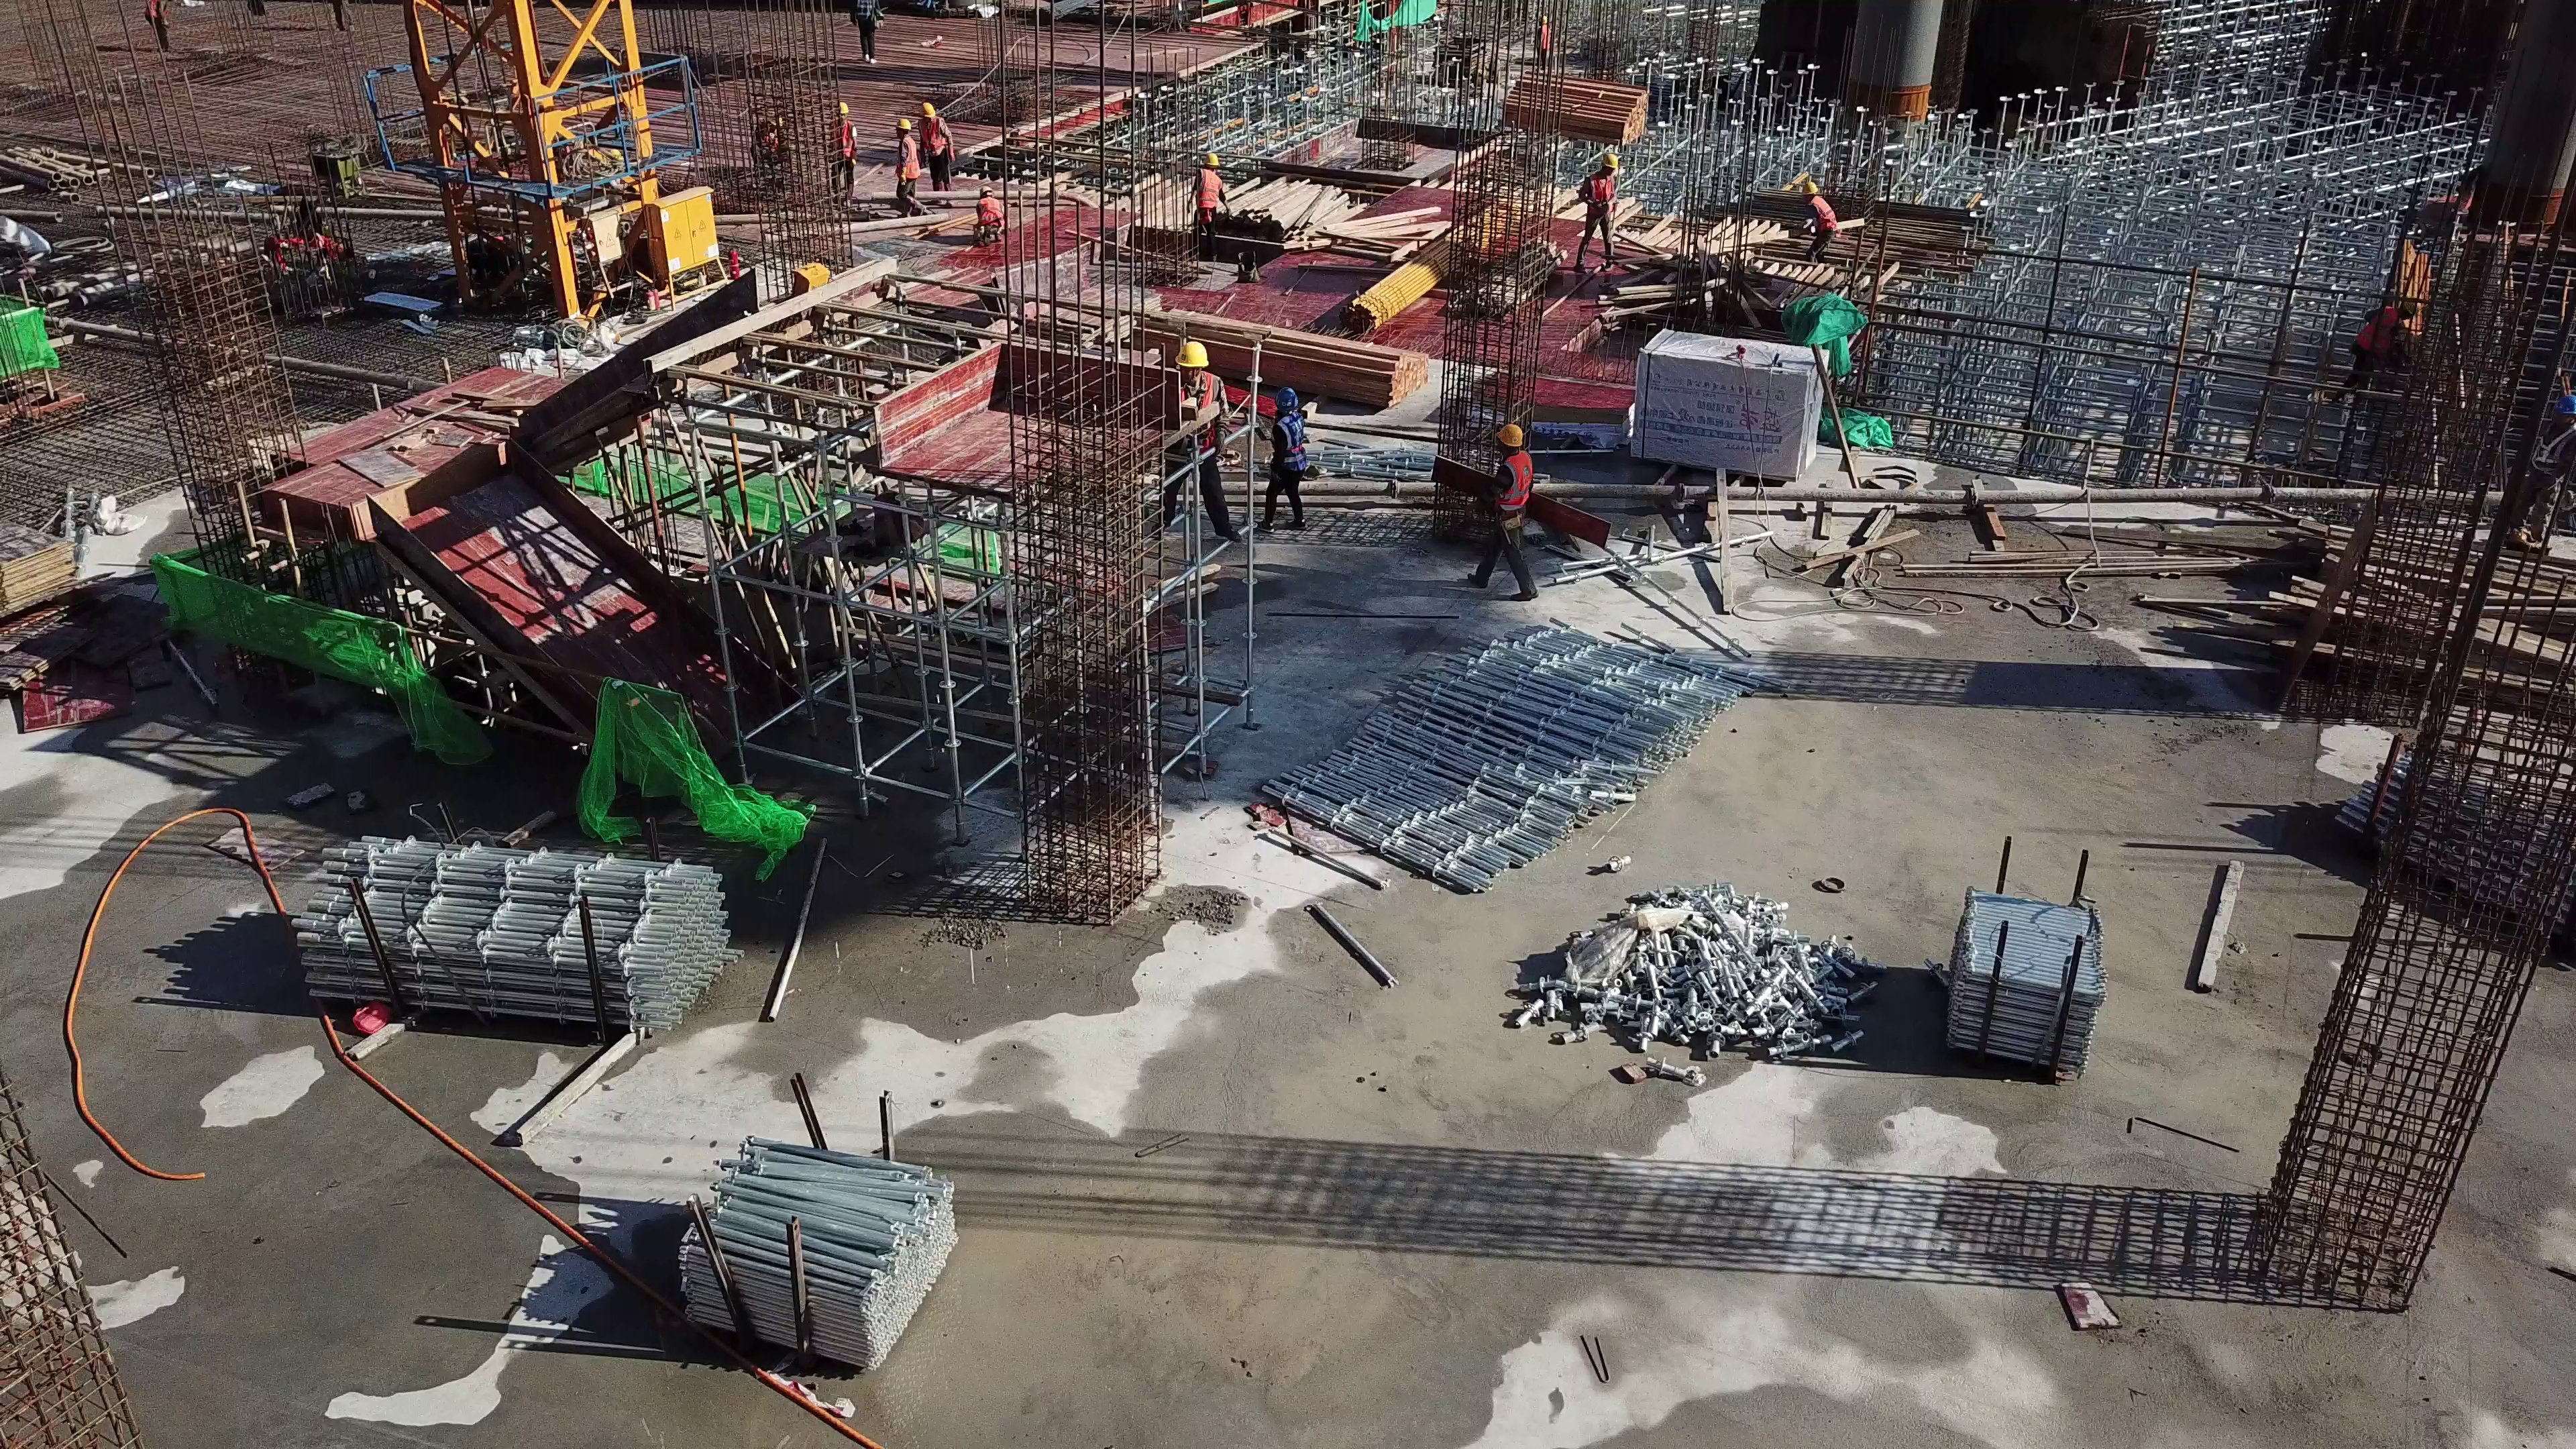helmet: (1173, 339, 1211, 371), (1492, 422, 1521, 447), (1275, 383, 1297, 411), (2553, 394, 2576, 415), (2400, 293, 2418, 313), (1800, 181, 1817, 196), (1204, 150, 1222, 166), (920, 103, 938, 116), (977, 184, 995, 197), (896, 117, 912, 131), (1601, 154, 1616, 168), (835, 101, 851, 114)
person: (1149, 339, 1246, 544), (1468, 422, 1539, 602), (2506, 396, 2576, 543), (1257, 385, 1307, 534), (2344, 297, 2414, 391), (1573, 155, 1615, 274), (1186, 152, 1229, 257), (894, 116, 932, 219), (918, 103, 955, 208), (830, 101, 859, 209), (1796, 180, 1833, 262), (747, 117, 790, 175), (849, 1, 883, 66), (974, 185, 1006, 241), (142, 1, 172, 52), (1536, 12, 1547, 67)
vest: (1176, 372, 1212, 443), (1493, 451, 1534, 509), (2534, 415, 2564, 478), (1275, 413, 1303, 470), (2362, 309, 2398, 351), (829, 123, 856, 160), (1197, 169, 1218, 213), (898, 136, 919, 182), (1807, 196, 1832, 231), (922, 117, 945, 154), (1590, 172, 1611, 200), (981, 196, 1000, 223), (856, 1, 874, 17), (1537, 23, 1546, 48)
